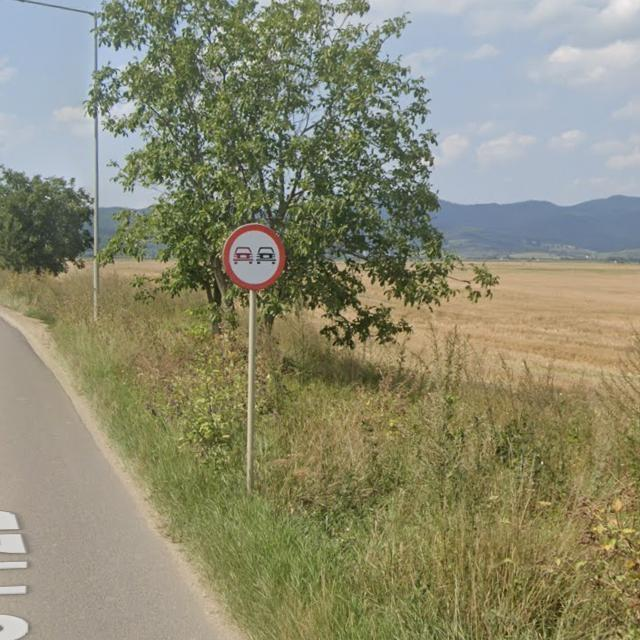forb_overtake: (220, 222, 289, 290)
